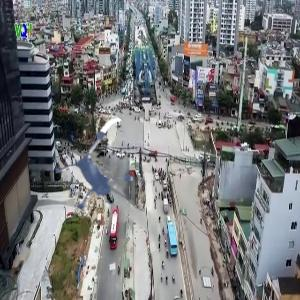drone: (47, 115, 164, 232)
